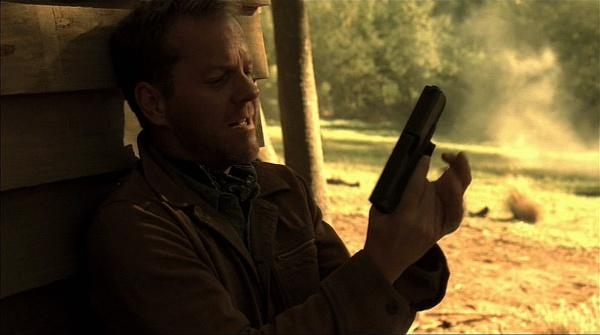Gun: (368, 87, 449, 211)
